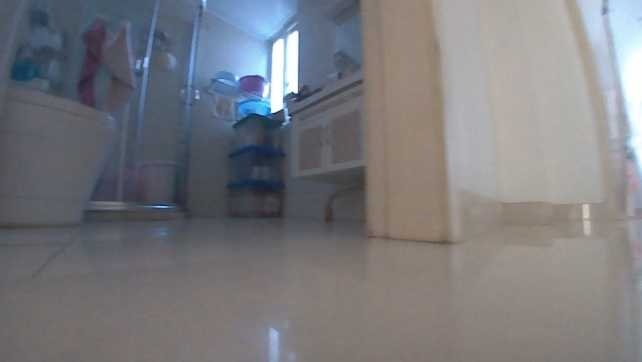toilet: (0, 80, 121, 230)
